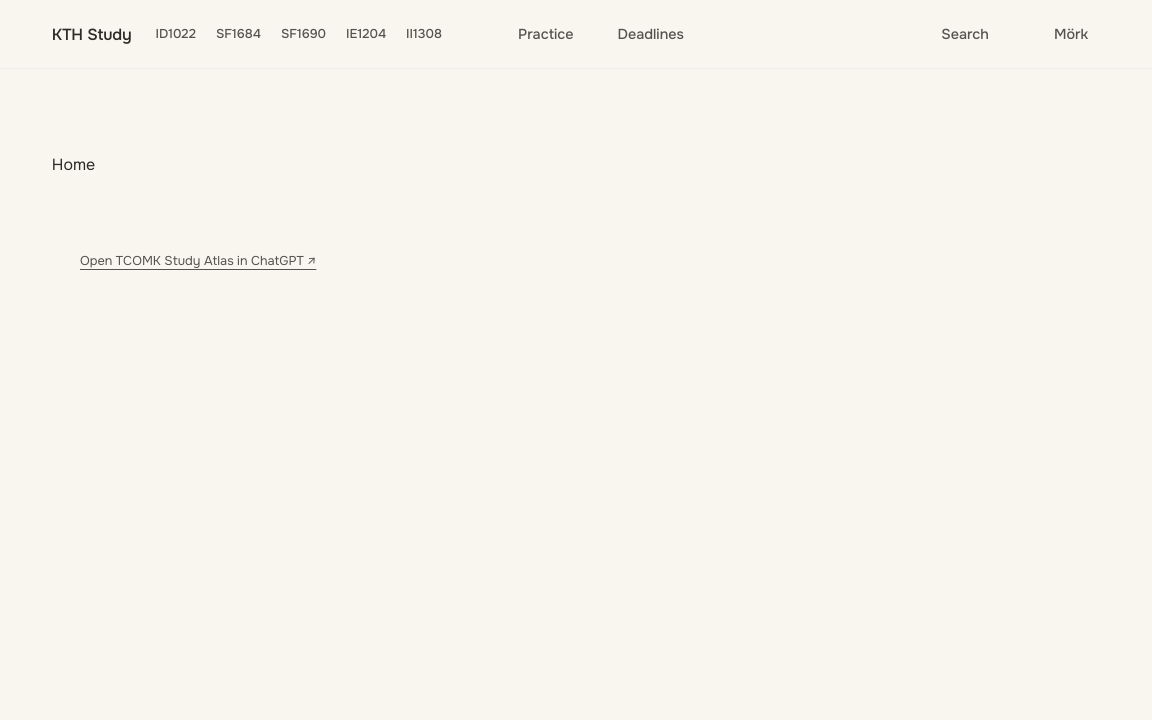
it: App › shows only the available recent items before a query is entered
This screenshot has width=1152, height=720.
Step 1. Click the button "Search" → (953,34), box [905, 12, 1001, 56]
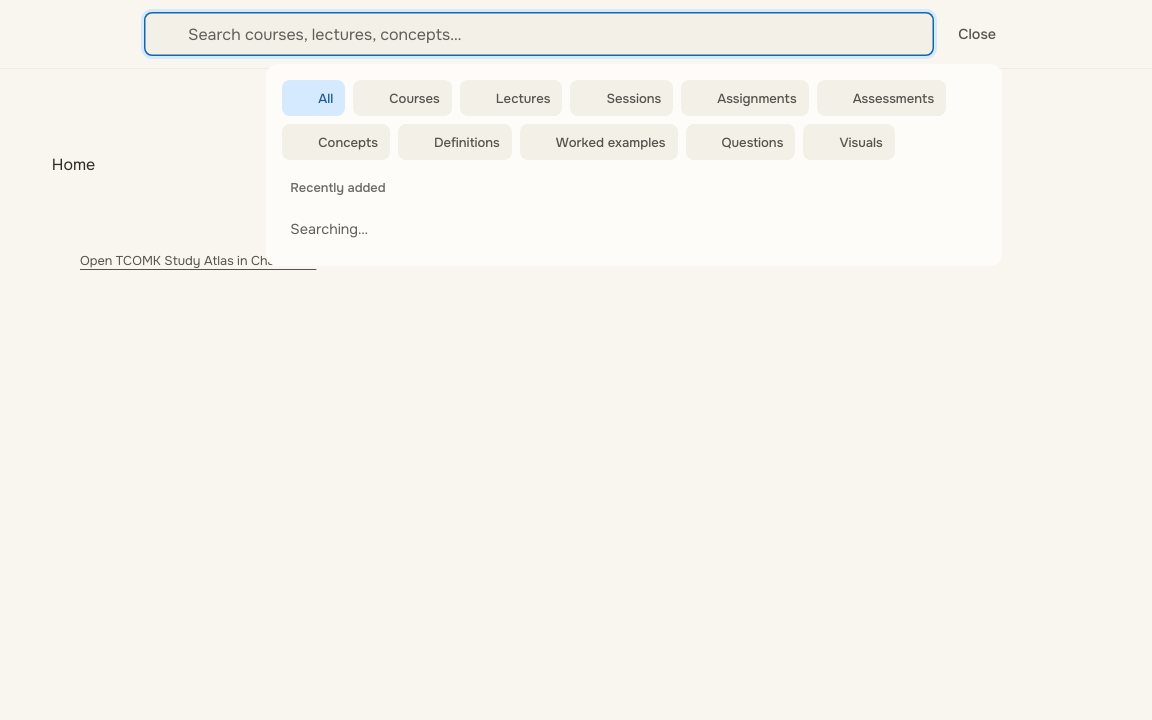
Step 2. Focus the search field named "Search all courses" → (539,34), box [144, 12, 934, 56]
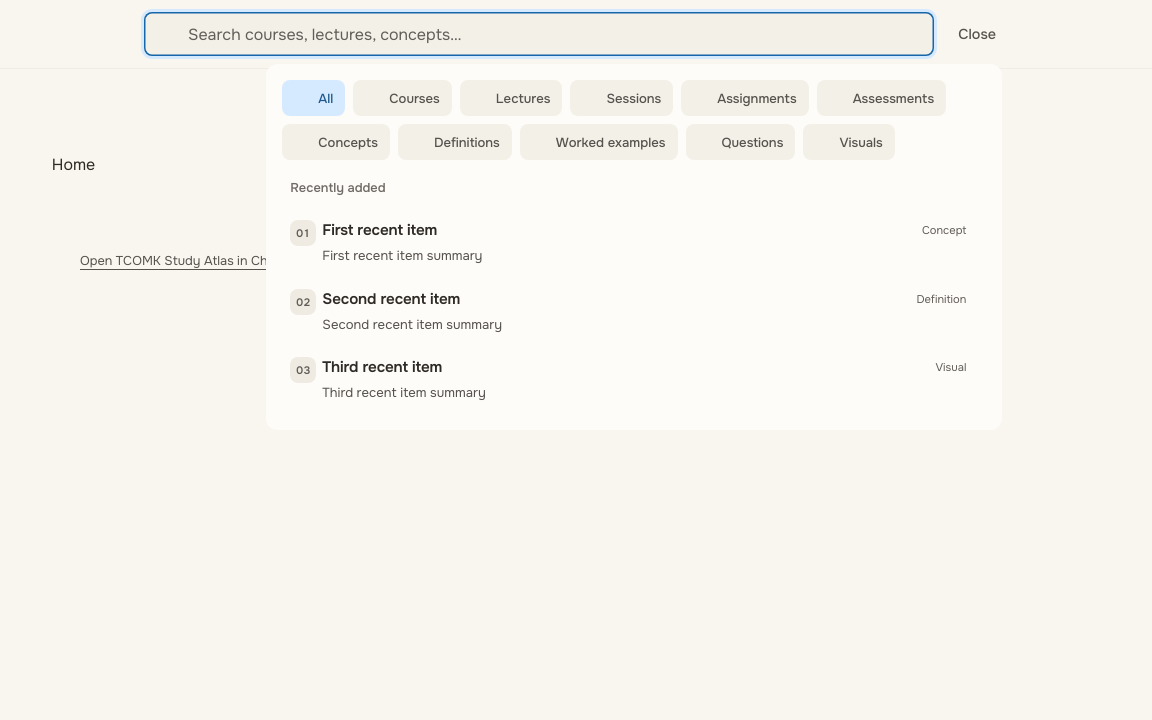
Expected: the text "Recently added" is shown, [290, 180, 386, 196]
Expected: the number of options is 3, [282, 208, 986, 277]; [282, 277, 986, 345]; [282, 345, 986, 414]
